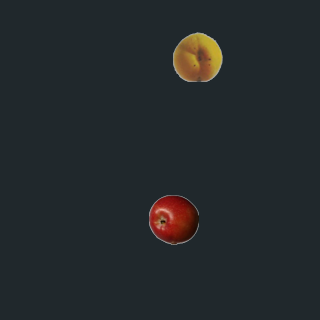Apple Braeburn: (148, 194, 198, 244)
Peach 2: (172, 31, 222, 81)
